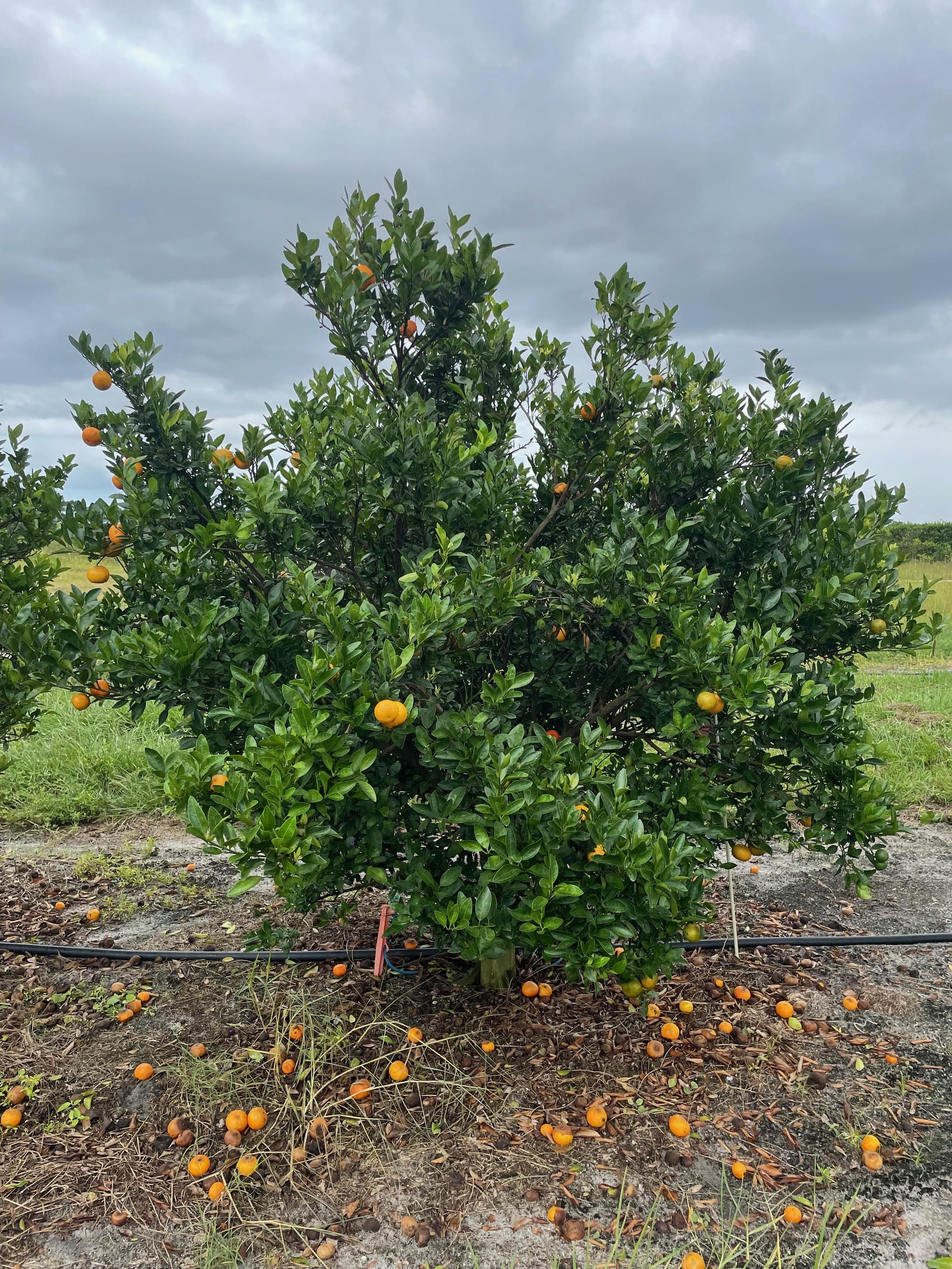fruit_on_ground: (347, 262, 379, 294), (379, 701, 410, 729), (584, 839, 612, 866), (209, 444, 237, 471), (205, 771, 233, 796), (679, 920, 705, 946), (120, 454, 146, 480), (542, 621, 569, 646), (89, 368, 116, 393), (569, 801, 595, 826), (99, 534, 125, 559), (84, 562, 111, 586), (80, 423, 105, 448), (646, 631, 672, 655), (88, 677, 114, 701), (373, 699, 399, 723), (107, 521, 132, 545), (318, 662, 343, 686), (703, 690, 726, 716), (619, 976, 644, 999), (232, 447, 255, 471), (772, 452, 796, 475), (110, 469, 133, 492), (695, 689, 718, 712), (69, 690, 93, 712), (730, 841, 753, 863), (397, 317, 419, 340), (578, 400, 601, 422), (287, 449, 309, 471), (746, 838, 768, 858), (638, 969, 660, 989), (867, 616, 889, 636), (551, 480, 571, 500), (798, 809, 819, 828), (647, 371, 666, 391), (542, 727, 562, 744), (873, 847, 891, 863), (873, 856, 889, 872)
fruit_on_tree: (667, 1113, 692, 1139), (187, 1152, 212, 1177), (3, 1082, 29, 1106), (165, 1116, 190, 1140), (583, 1104, 608, 1128), (246, 1105, 269, 1131), (307, 1116, 331, 1140), (347, 1078, 373, 1100), (560, 1219, 584, 1242), (224, 1107, 247, 1131), (859, 1151, 885, 1172), (387, 1059, 410, 1082), (2, 1105, 24, 1129), (680, 1250, 707, 1269), (398, 1215, 420, 1238), (236, 1153, 258, 1176), (805, 1070, 829, 1091), (782, 1203, 804, 1225), (173, 1129, 196, 1150), (546, 1204, 569, 1225), (132, 1060, 155, 1081), (315, 1240, 337, 1261), (519, 978, 540, 999), (645, 1038, 666, 1059), (286, 1022, 308, 1042), (207, 1180, 227, 1202), (552, 1125, 574, 1145), (642, 1000, 662, 1021), (659, 1021, 679, 1042), (405, 1024, 425, 1045), (267, 1045, 287, 1065), (860, 1132, 880, 1152), (775, 999, 796, 1018), (222, 1129, 242, 1148), (414, 1225, 432, 1246), (109, 1209, 130, 1226), (730, 1161, 748, 1180), (278, 1057, 296, 1076), (536, 981, 554, 1000), (841, 993, 859, 1011), (124, 997, 143, 1014), (732, 984, 751, 1001), (479, 1037, 497, 1054), (538, 1121, 556, 1138), (189, 1041, 207, 1058), (331, 961, 349, 978), (852, 996, 871, 1012), (401, 935, 420, 951), (116, 1007, 135, 1023), (290, 1145, 307, 1162), (677, 998, 694, 1015), (699, 1027, 718, 1042), (84, 906, 101, 922), (801, 1019, 819, 1034), (691, 1033, 709, 1048), (109, 980, 127, 994), (717, 1020, 733, 1035), (822, 1036, 838, 1050), (883, 1051, 900, 1064), (711, 974, 726, 988), (135, 989, 150, 1003), (783, 974, 800, 986), (839, 904, 856, 916), (102, 936, 117, 949), (747, 863, 761, 875), (707, 988, 722, 999), (53, 899, 66, 911), (185, 862, 198, 873)
